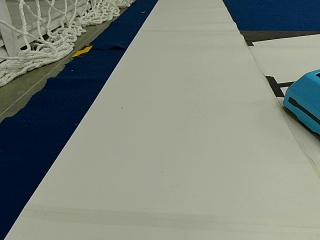car: (283, 67, 319, 135)
